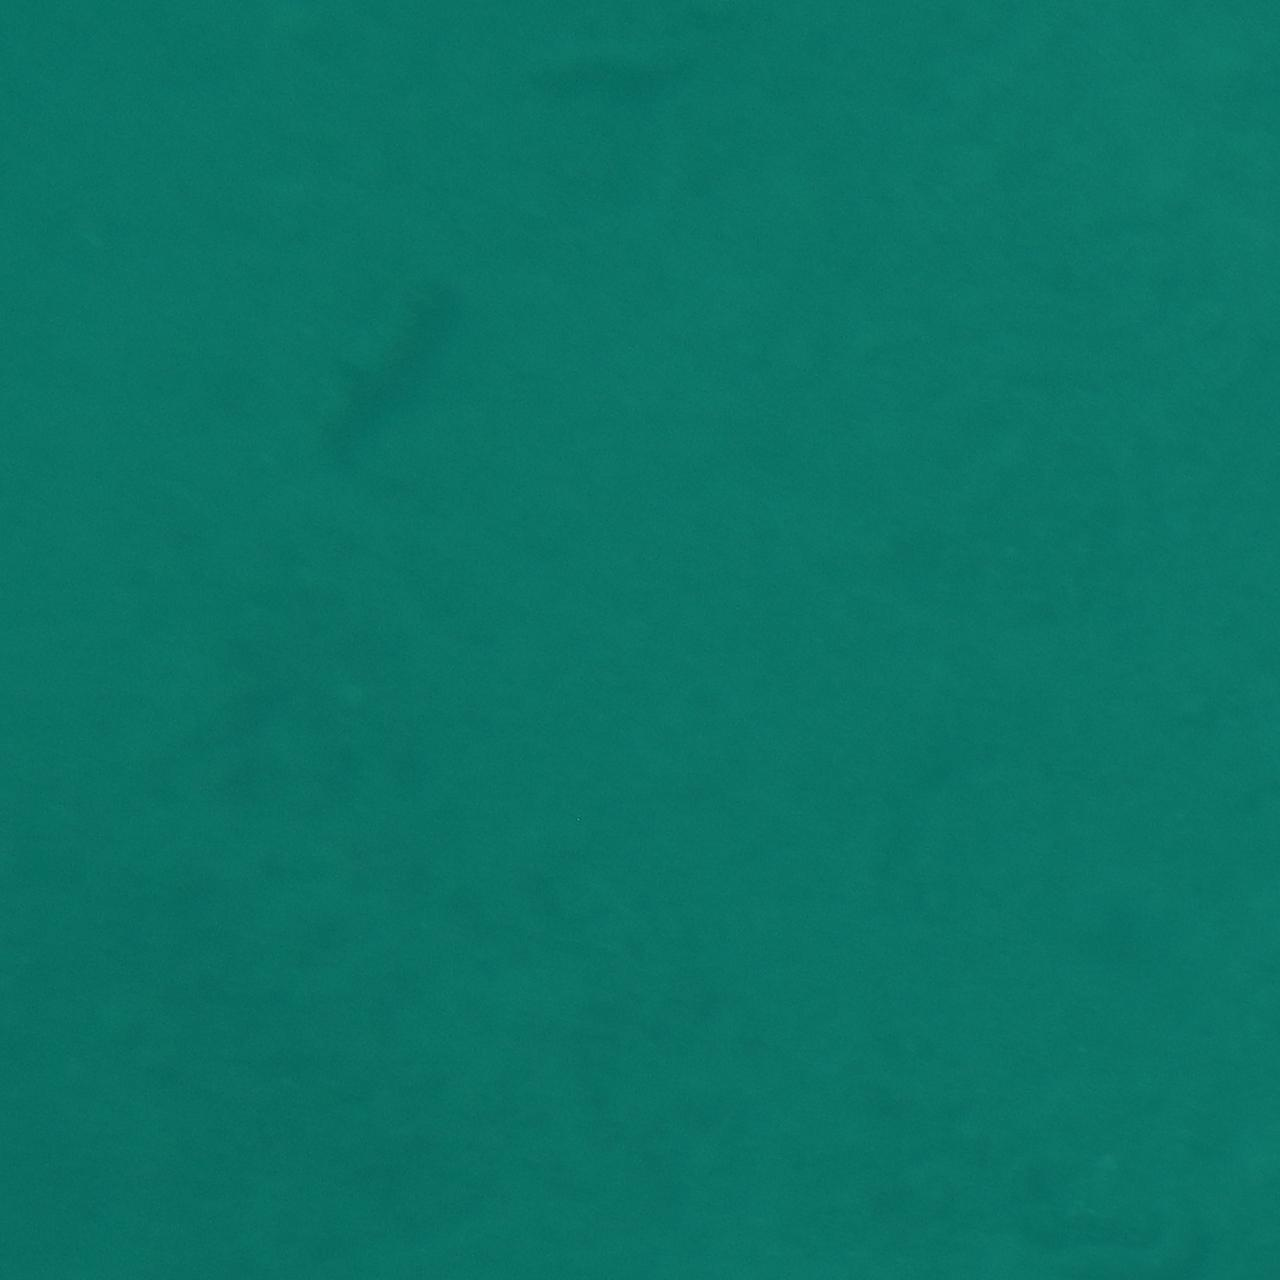Holothuria tubulosa: (277, 247, 470, 449), (486, 8, 694, 130)
